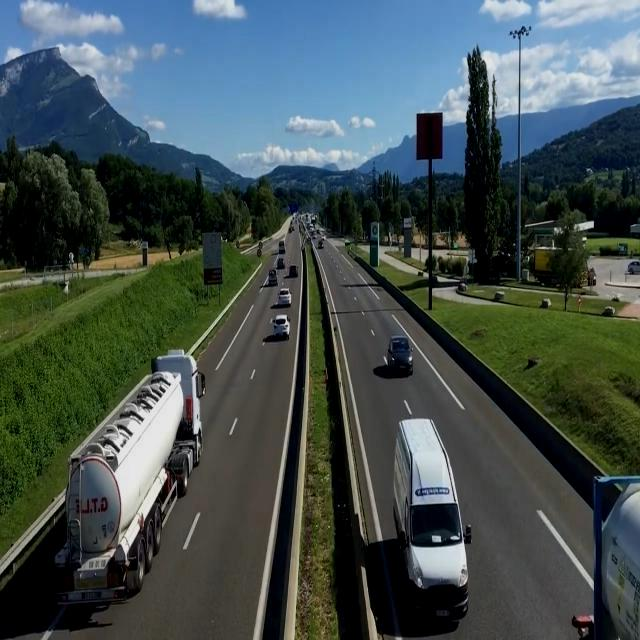Car: (386, 334, 415, 374), (272, 314, 291, 340), (278, 288, 294, 307), (288, 265, 300, 278), (268, 268, 276, 286)
Truck: (59, 349, 208, 608)
Van: (392, 418, 477, 627)
